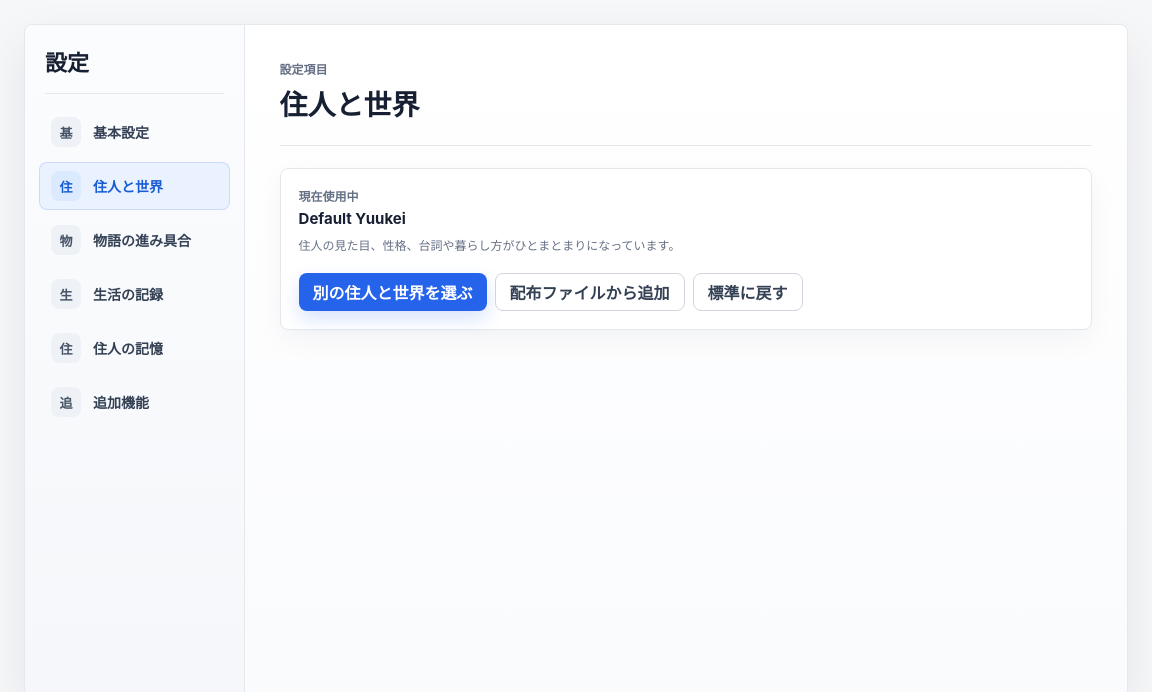
Test: App › prevents new autostart registration in development builds
The image size is (1152, 692).
Click the tab "基 基本設定".
click(134, 132)  # box [39,108,230,156]
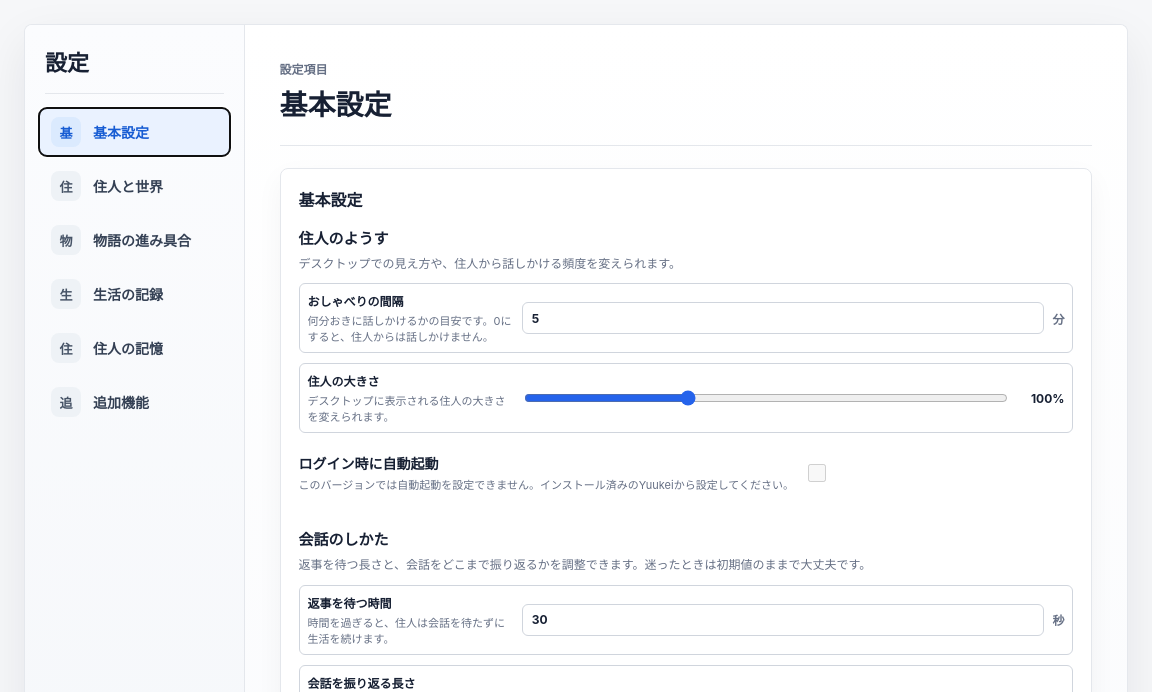
Check: the checkbox labelled "ログイン時に自動起動 このバージョンでは自動起動を設定できません。インストール済みのYuukeiから設定してください。" is disabled, box [808,464,826,482]
Check: the text "このバージョンでは自動起動を設定できません。インストール済みのYuukeiから設定してください。" is shown, box [298,476,794,492]
